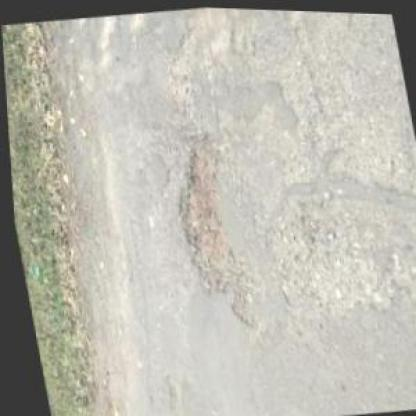pothole: (158, 127, 261, 336)
